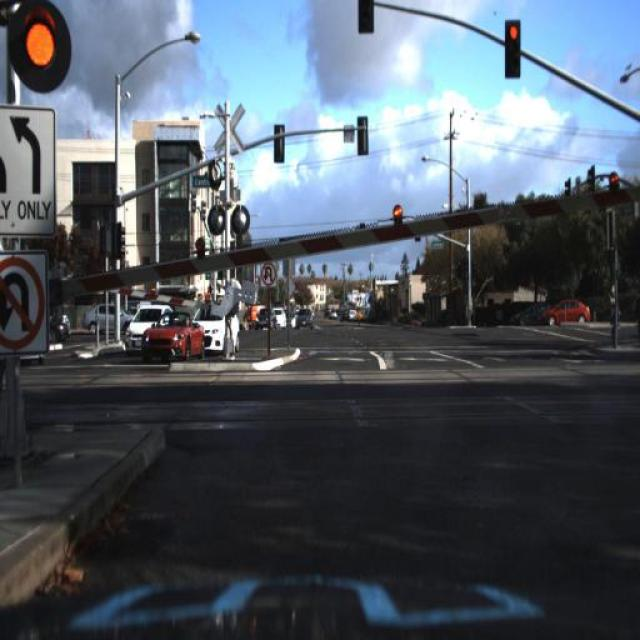car: (142, 306, 206, 360), (76, 302, 142, 342), (196, 308, 242, 357), (537, 297, 592, 332), (123, 305, 161, 353), (510, 294, 556, 332), (44, 316, 68, 352), (292, 304, 313, 331), (46, 310, 74, 330), (343, 296, 361, 326), (270, 305, 286, 336), (250, 305, 269, 327), (335, 302, 346, 328)
trafficLight: (607, 286, 622, 350)
trafficLight-Green: (356, 210, 372, 250)
trafficLight-RedLeft: (0, 0, 106, 101), (496, 12, 529, 87)
